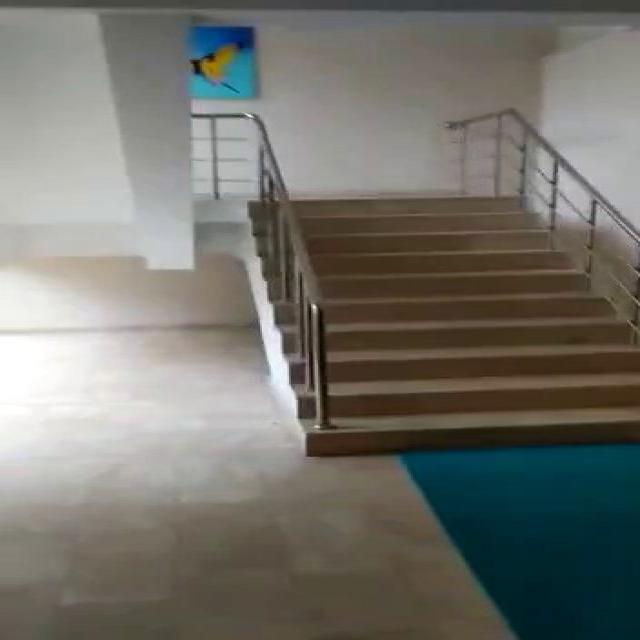stairs: (258, 194, 638, 442)
